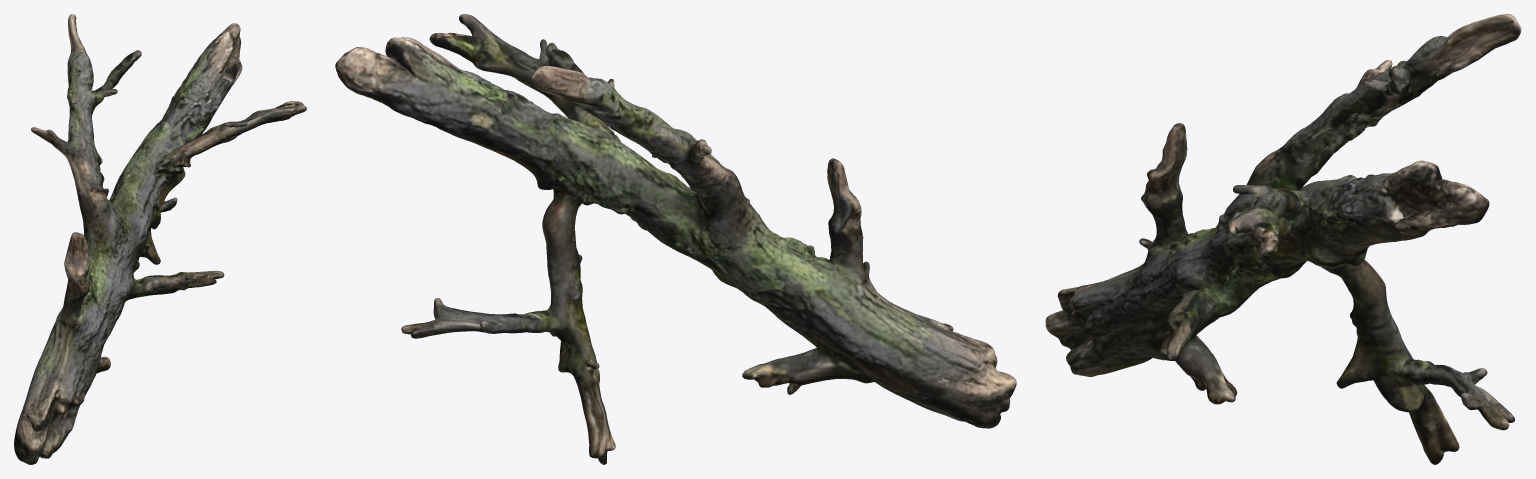
Rendered from submerged-branch-v12.glb.
3 renders of one model, left to right at view 1: azimuth 30°, elevation 25°; view 2: azimuth 150°, elevation 25°; view 3: azimuth 270°, elevation 25°, orthographic. The views are drawn at different scales.
Visible parts, largest first — view 1: geometry_0; view 2: geometry_0; view 3: geometry_0.
Boxes of the visible parts, left/top/right/bottom form: geometry_0: left=14, top=14, right=306, bottom=464; geometry_0: left=335, top=14, right=1016, bottom=464; geometry_0: left=1045, top=14, right=1521, bottom=464.
Size of the model in its own units: 0.8497 by 0.7287 by 0.6431.
1 material, 1 textured.
